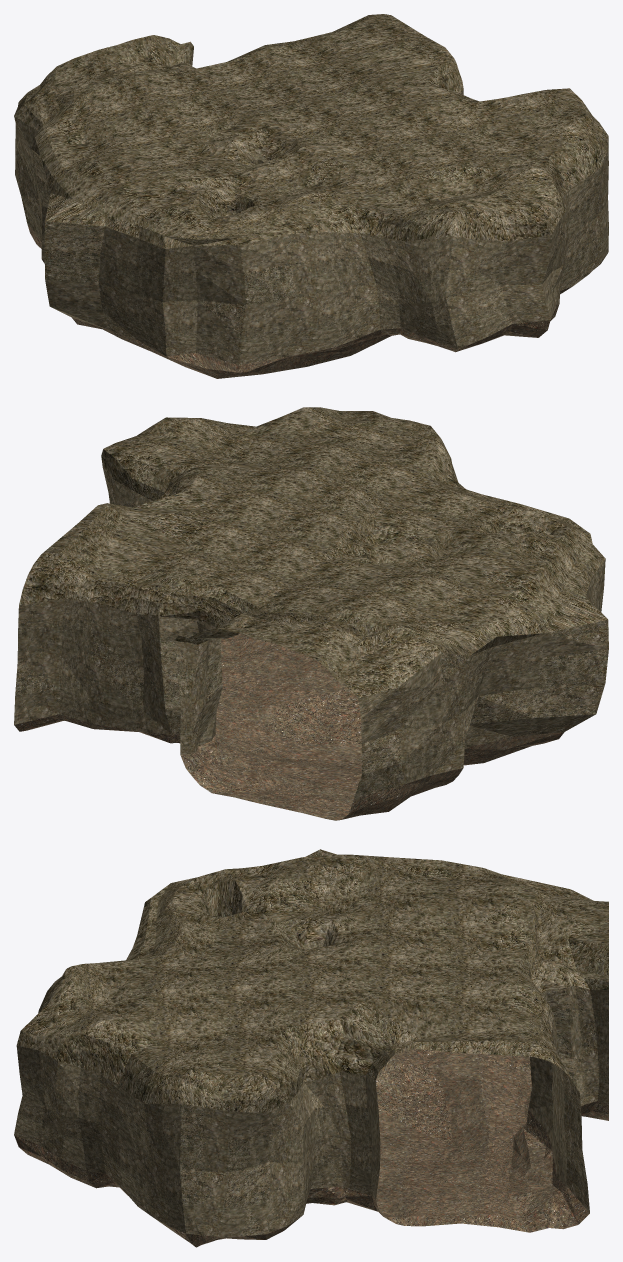
File: thm_tato_fort_tusken_r3_mesh_r3.fbx
3 views of the same model, one above another, from view 1: azimuth 30°, elevation 25°; view 2: azimuth 150°, elevation 25°; view 3: azimuth 270°, elevation 25° (orthographic). The views are drawn at different scales.
Visible parts, largest first — view 1: mesh_node; view 2: mesh_node; view 3: mesh_node.
Boxes of the visible parts, x1,y1,x2,y2 form: mesh_node: (14,14,608,378); mesh_node: (14,407,608,820); mesh_node: (14,849,608,1247).
Bounding box in the file's own units: 25.14 × 8.98 × 23.36.
